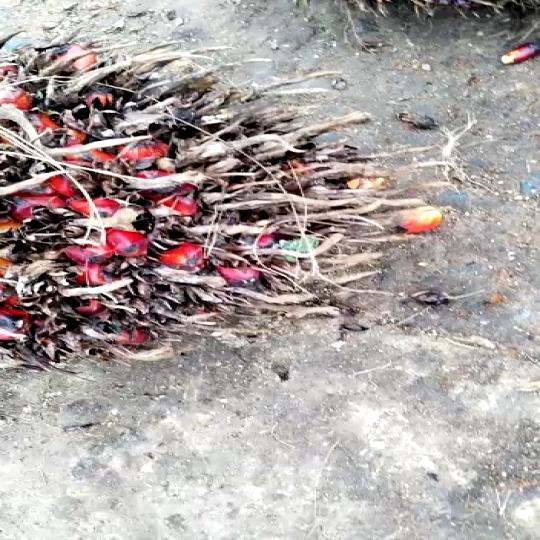terlalu masak: (0, 35, 437, 370)
